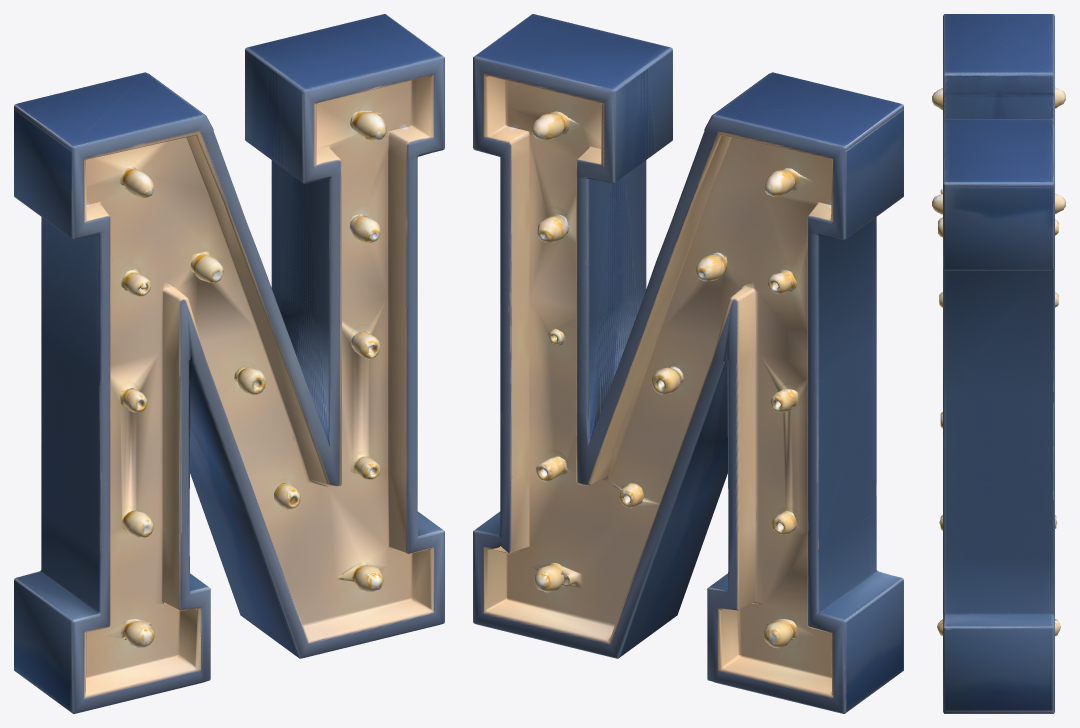
File: Letter_n.glb
The picture shows the model from 3 angles, left to right: view 1: azimuth 30°, elevation 25°; view 2: azimuth 150°, elevation 25°; view 3: azimuth 270°, elevation 25°; orthographic projection. The views are drawn at different scales.
Visible parts, largest first — view 1: Mesh_0; view 2: Mesh_0; view 3: Mesh_0.
Part boxes in pixels (<box>): Mesh_0: <box>14,14,444,713</box>; Mesh_0: <box>473,14,903,713</box>; Mesh_0: <box>932,14,1065,713</box>.
Size of the model in its own units: 0.629 by 0.9144 by 0.2084.
Materials: 1 (1 with a texture image).
